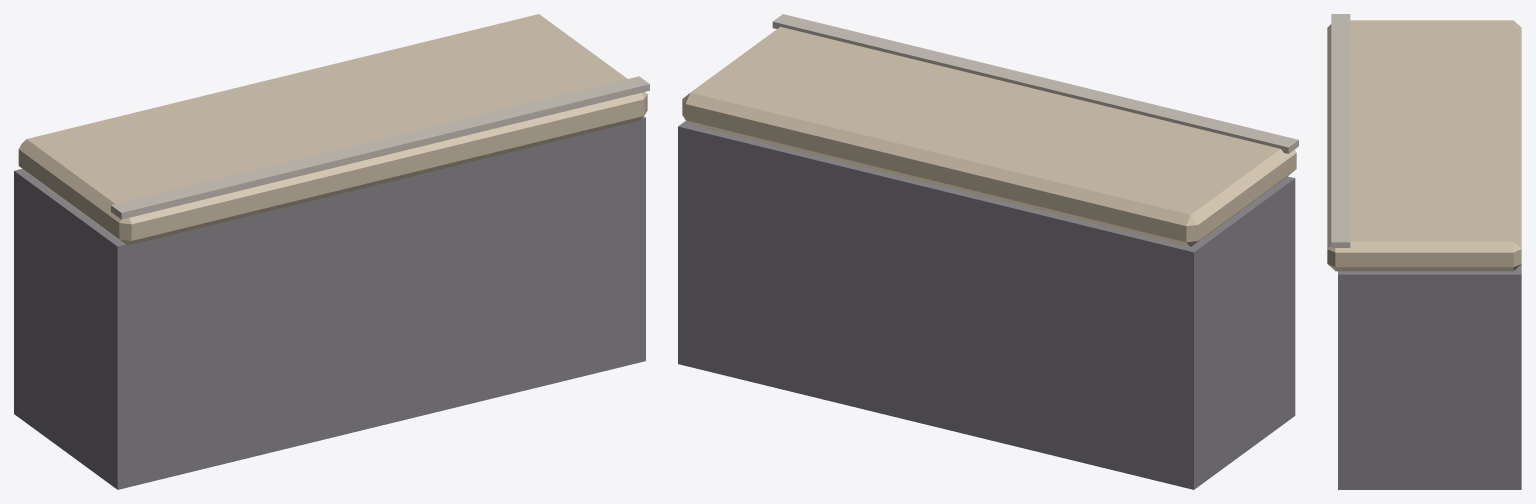
The model's file is stair_tread.glb.
3 renders of one model, left to right at view 1: azimuth 30°, elevation 25°; view 2: azimuth 150°, elevation 25°; view 3: azimuth 270°, elevation 25°, orthographic. The views are drawn at different scales.
Visible parts, largest first — view 1: stair_tread; view 2: stair_tread; view 3: stair_tread.
Boxes of the visible parts, x1,y1,x2,y2 form: stair_tread: [14, 14, 649, 489]; stair_tread: [678, 14, 1298, 489]; stair_tread: [1327, 14, 1521, 489].
Bounding box in the file's own units: 1 × 0.506 × 0.36.
Materials: 1 (1 with a texture image).
